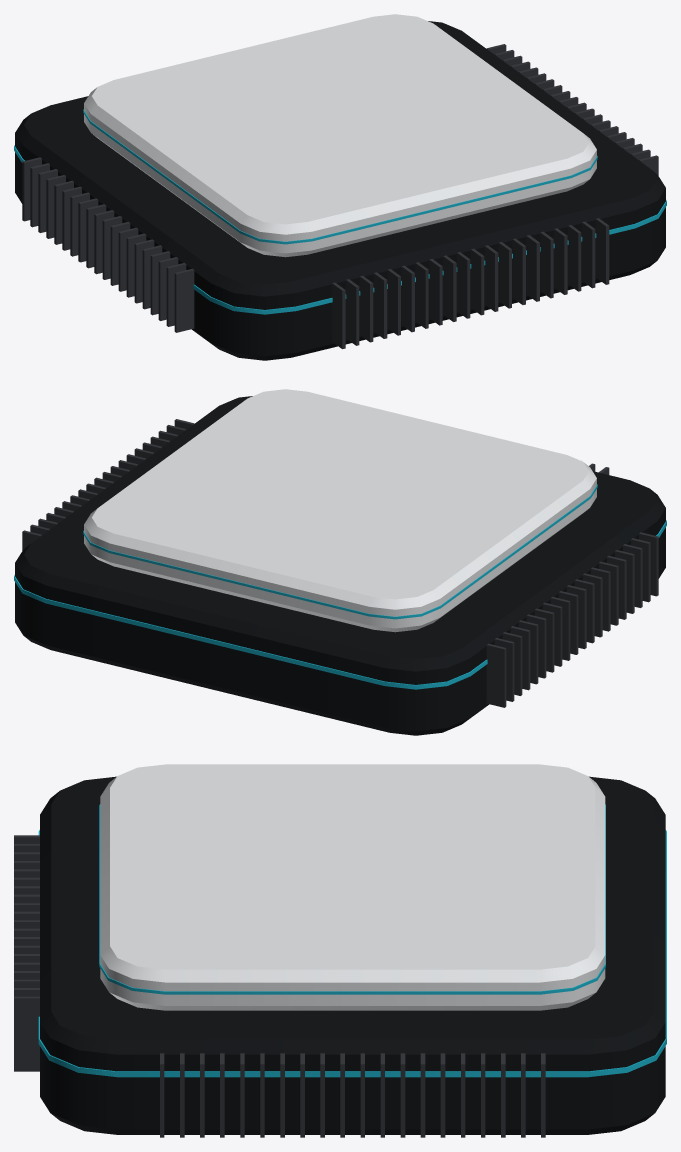
Rendered from c3_transceiver.obj.
3 renders of one model, top to bottom at view 1: azimuth 30°, elevation 25°; view 2: azimuth 150°, elevation 25°; view 3: azimuth 270°, elevation 25°, orthographic. The views are drawn at different scales.
Visible parts, largest first — view 1: c3_transceiver; view 2: c3_transceiver; view 3: c3_transceiver.
Part boxes in pixels (x1,y1,x2,y2): c3_transceiver: (14,14,666,360); c3_transceiver: (14,389,666,735); c3_transceiver: (14,764,666,1137).
Size of the model in its own units: 2.15 by 0.465 by 2.02.
